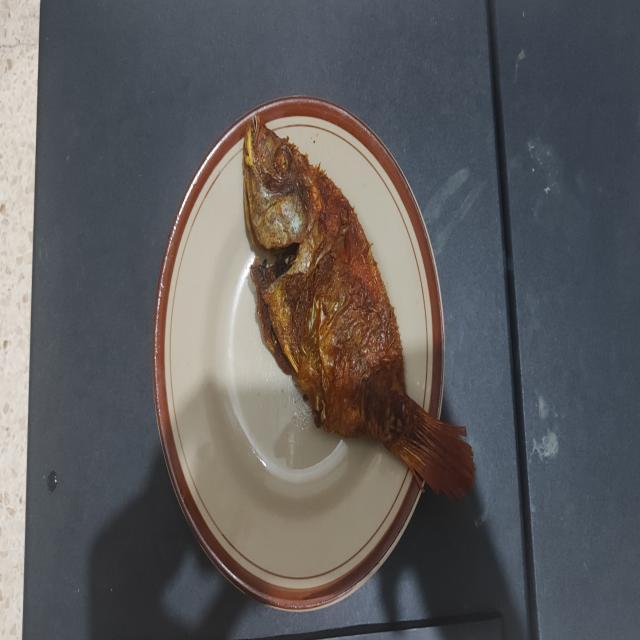ikan_mujair: (242, 115, 474, 498)
